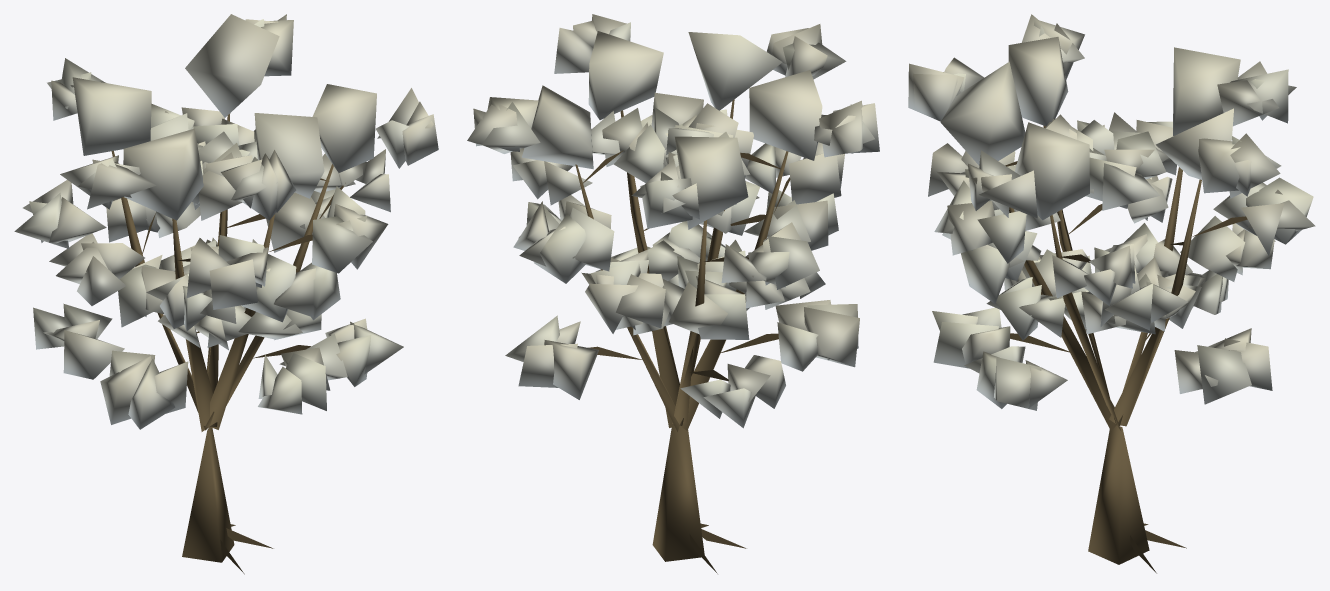
The picture shows the model from 3 angles, left to right: view 1: azimuth 30°, elevation 25°; view 2: azimuth 150°, elevation 25°; view 3: azimuth 270°, elevation 25°; orthographic projection.
Parts seen in each view (by area): view 1: crown, trunk; view 2: crown, trunk; view 3: crown, trunk.
Part boxes in pixels (box(x1,y1,x2,y2)): crown: box(14, 14, 438, 429); trunk: box(111, 113, 345, 574); crown: box(467, 14, 879, 428); trunk: box(575, 99, 790, 573); crown: box(908, 14, 1315, 410); trunk: box(1005, 125, 1247, 573).
Size of the model in its own units: 10 by 13.43 by 10.18.
